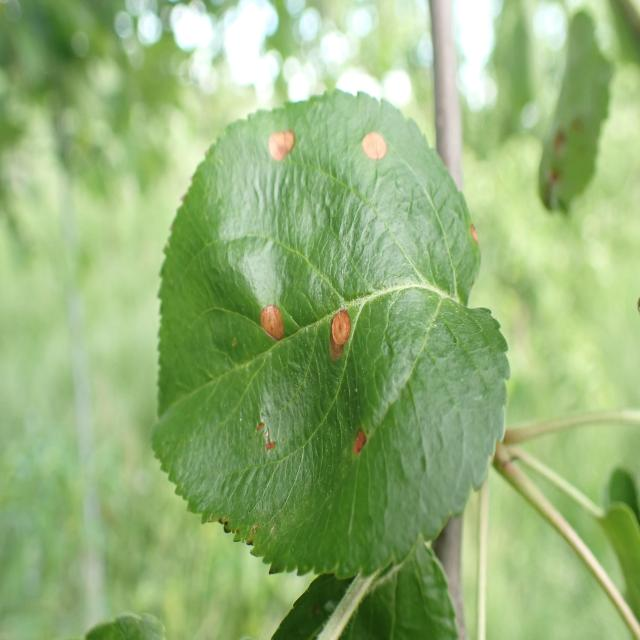Black Rot: (263, 103, 308, 181), (359, 119, 400, 199), (322, 293, 360, 372), (252, 291, 288, 354), (343, 431, 379, 486), (465, 204, 490, 261)
